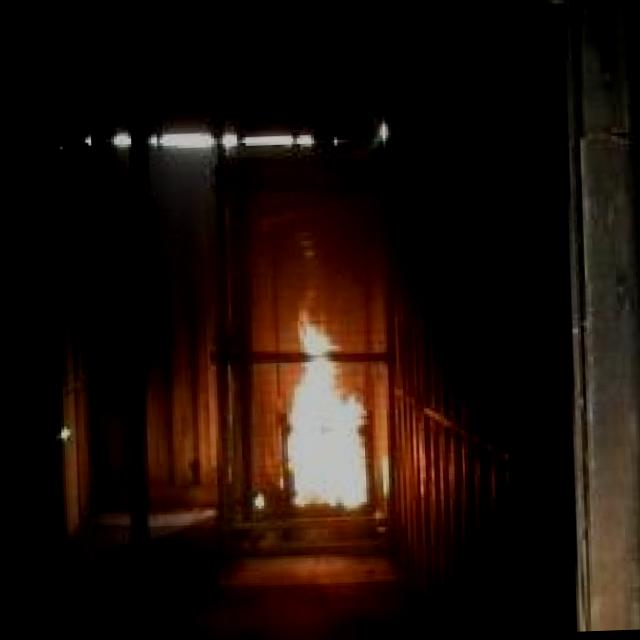fire: (263, 315, 378, 519)
